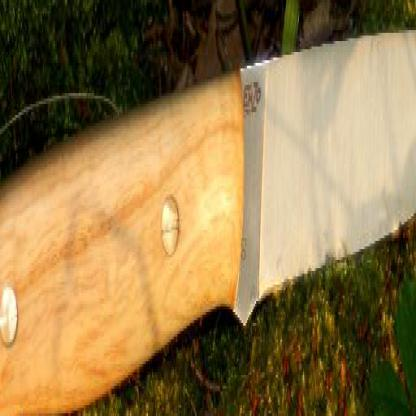knife: (0, 22, 415, 413)
